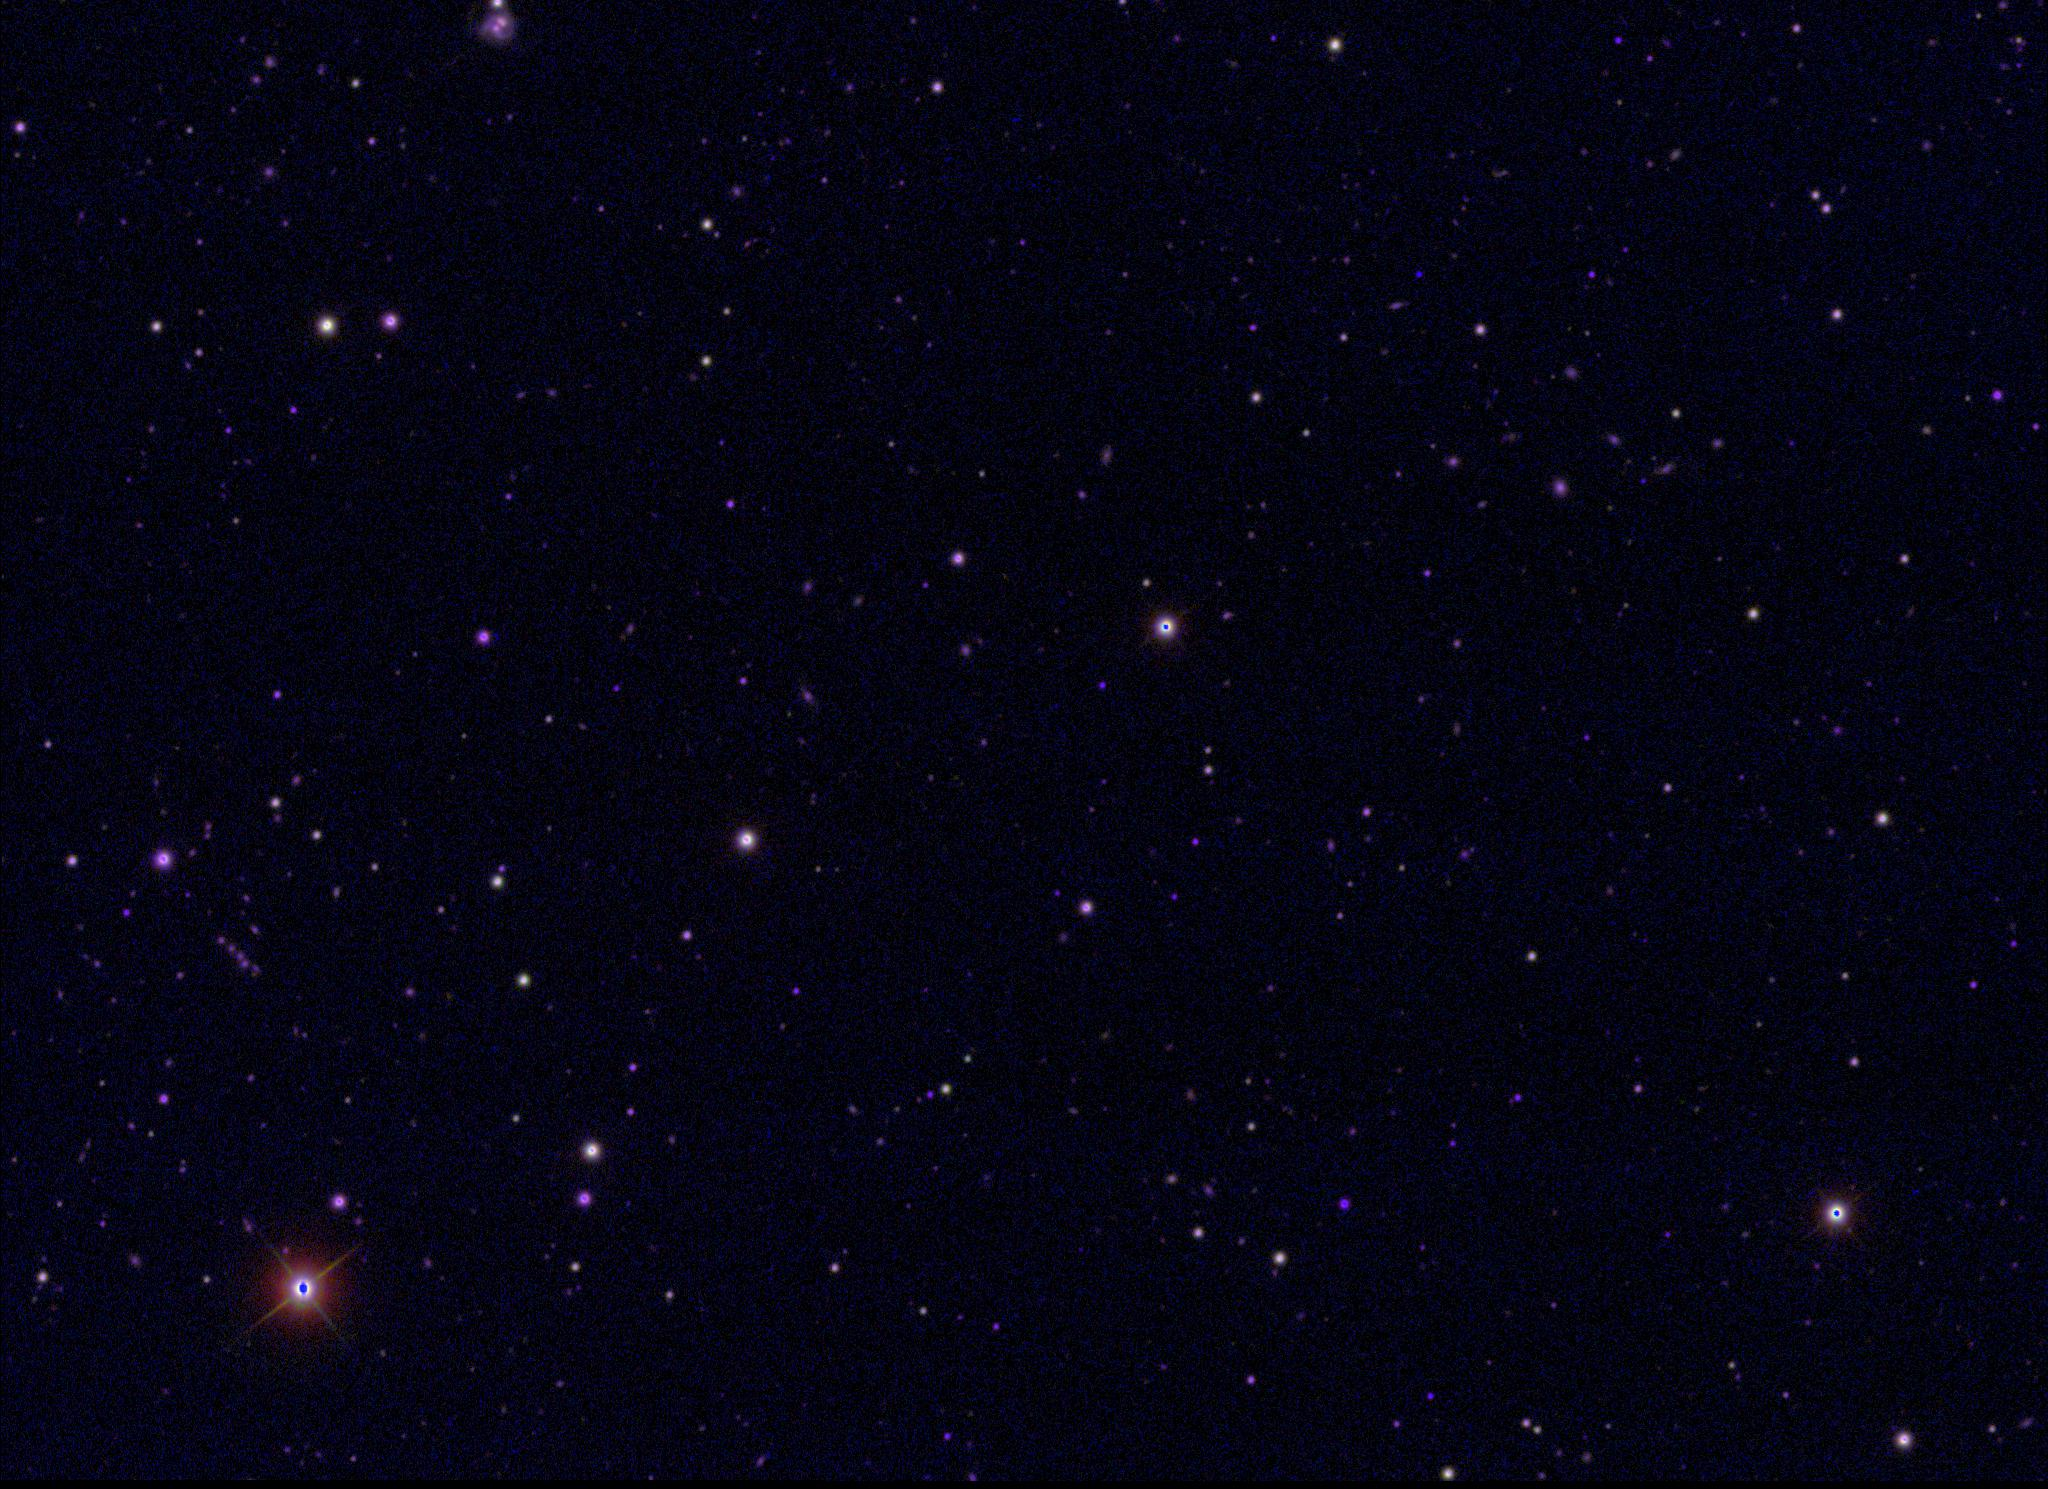L: (1414, 267, 1428, 282)
